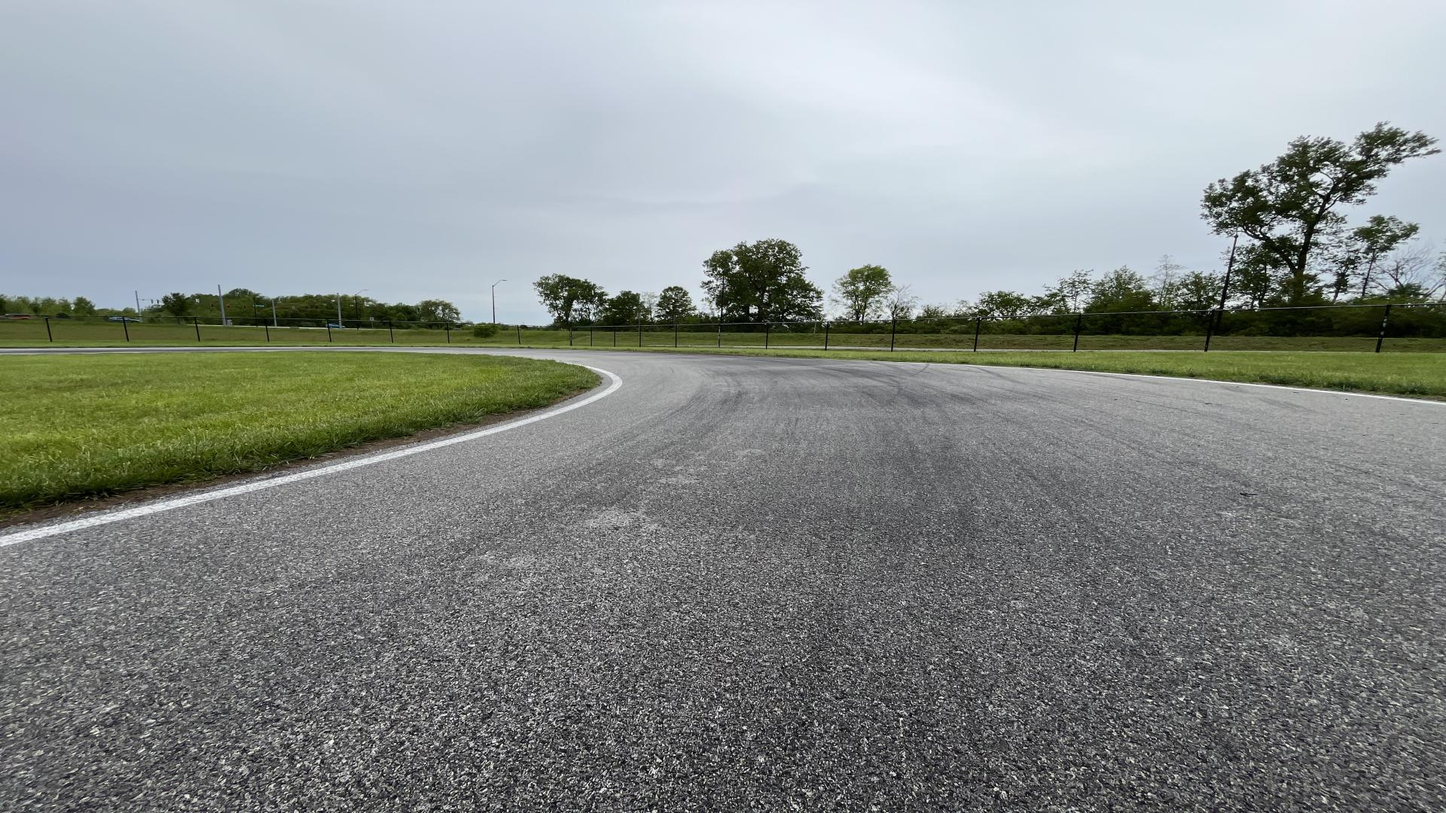white-line: (0, 359, 623, 544), (691, 353, 1445, 407)
